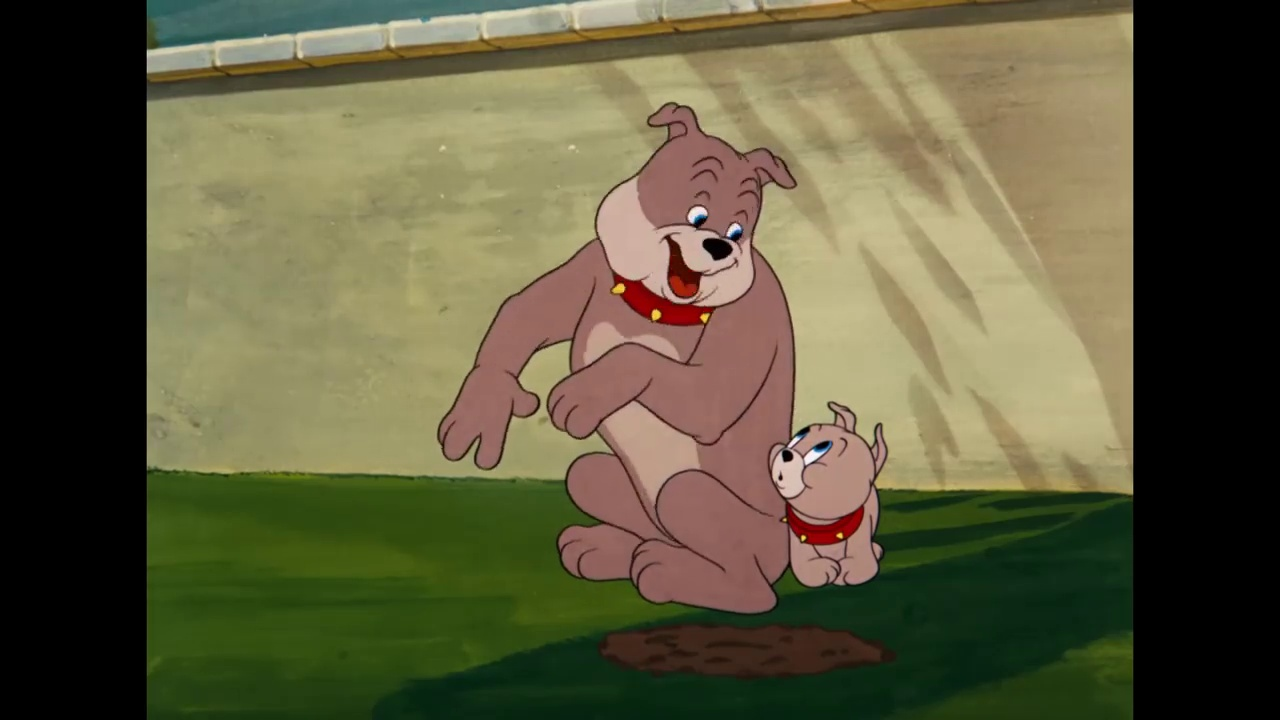spike: (591, 98, 799, 334)
